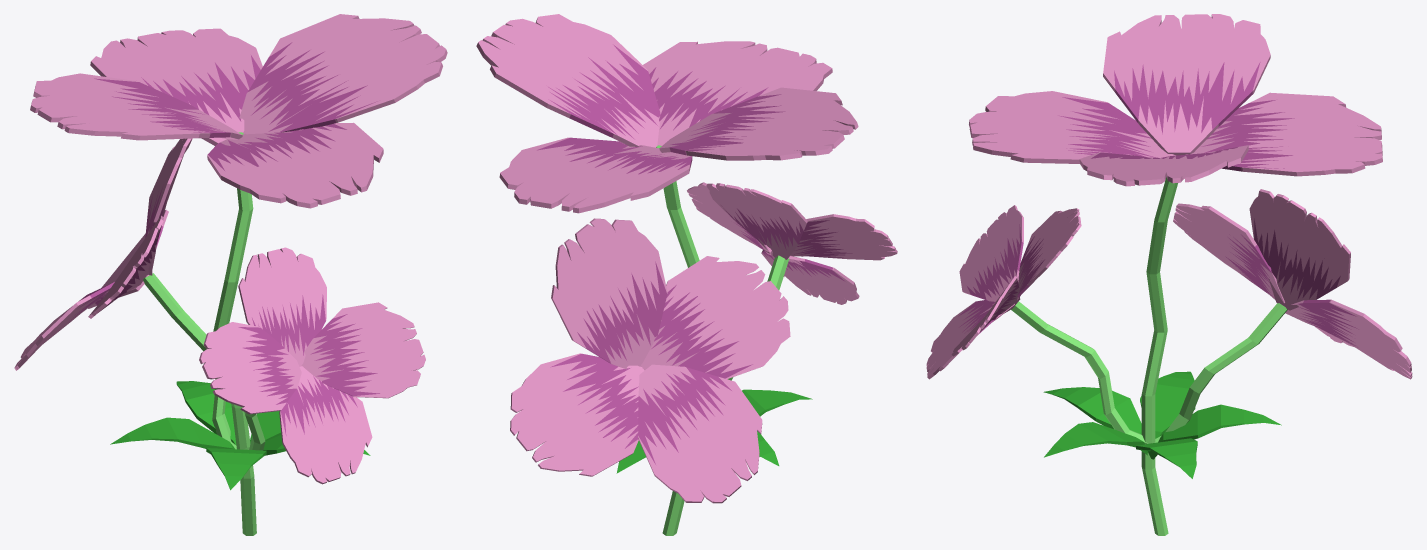
Rendered from flower.fbx.
3 renders of one model, left to right at view 1: azimuth 30°, elevation 25°; view 2: azimuth 150°, elevation 25°; view 3: azimuth 270°, elevation 25°, orthographic. The views are drawn at different scales.
Visible parts, largest first — view 1: Plane.001, Plane.002, Cylinder, Plane; view 2: Plane.001, Plane.002, Cylinder, Plane; view 3: Plane.001, Plane.002, Cylinder, Plane.
Part boxes in pixels (x1,y1,x2,y2): Plane.001: (14,14,447,484); Plane.002: (61,42,379,435); Cylinder: (143,132,265,535); Plane: (110,381,370,490); Plane.001: (476,14,897,503); Plane.002: (537,44,852,464); Cylinder: (656,145,789,535); Plane: (616,389,812,473); Plane.001: (926,14,1412,379); Plane.002: (958,62,1358,347); Cylinder: (1011,177,1287,535); Plane: (1043,371,1281,478).
Bounding box in the file's own units: 704 × 837 × 841.
